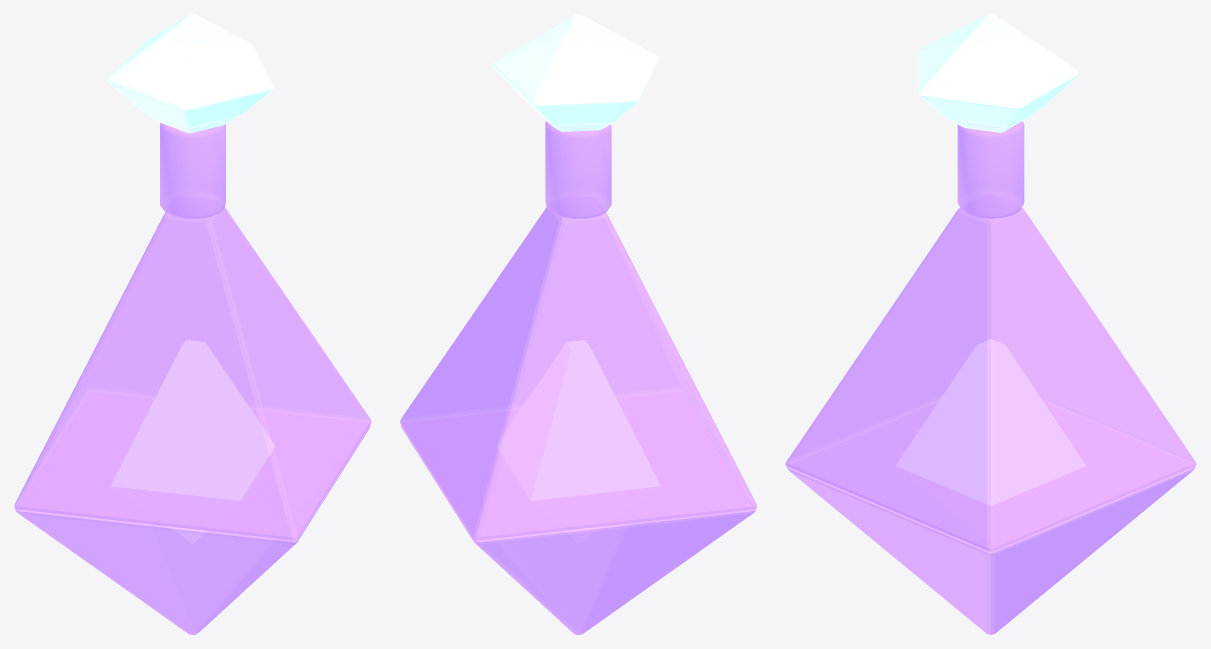
The model's file is alchemy_flask.glb.
The picture shows the model from 3 angles, left to right: view 1: azimuth 30°, elevation 25°; view 2: azimuth 150°, elevation 25°; view 3: azimuth 270°, elevation 25°; orthographic projection.
Visible parts, largest first — view 1: FlaskBody, CoreViolet, Stopper; view 2: FlaskBody, CoreViolet, Stopper; view 3: FlaskBody, CoreViolet, Stopper.
Boxes of the visible parts, box(x1,y1,x2,y2) form: FlaskBody: box(14, 122, 371, 634); CoreViolet: box(111, 340, 274, 543); Stopper: box(107, 14, 273, 133); FlaskBody: box(400, 121, 756, 634); CoreViolet: box(496, 340, 660, 543); Stopper: box(492, 14, 658, 131); FlaskBody: box(785, 121, 1196, 634); CoreViolet: box(896, 339, 1085, 505); Stopper: box(919, 14, 1078, 132).
Size of the model in its own units: 4.31 by 7.18 by 4.31.
